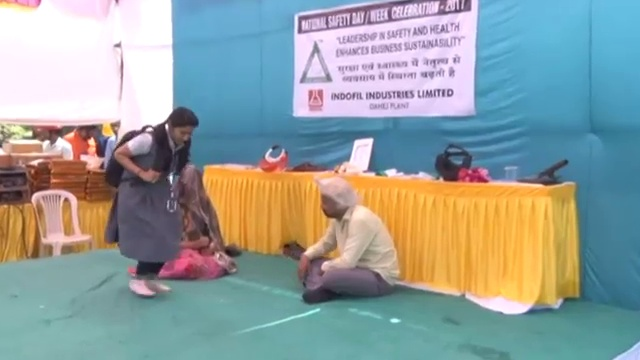helmet_off: (165, 107, 199, 147), (317, 182, 350, 220), (179, 164, 203, 200)
person: (109, 107, 199, 300), (296, 179, 402, 304), (163, 162, 238, 281), (37, 122, 75, 168), (65, 122, 99, 166), (105, 119, 121, 170)
